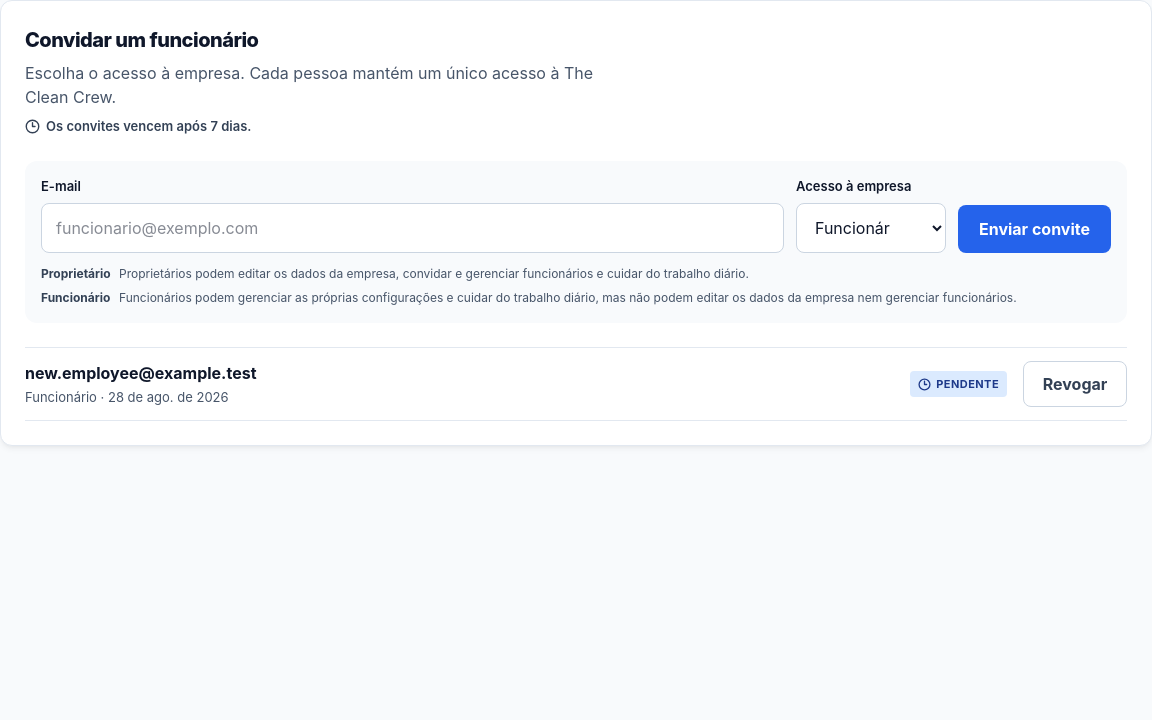
Test: CLE-95 invitation delivery failures stay visible › tells a Brazilian owner the invitation is still open, in Portuguese
Type "new.employee@example.test" into the field labelled "E-mail".
click(412, 228); type("new.employee@example.test")  # box [41,203,784,253]
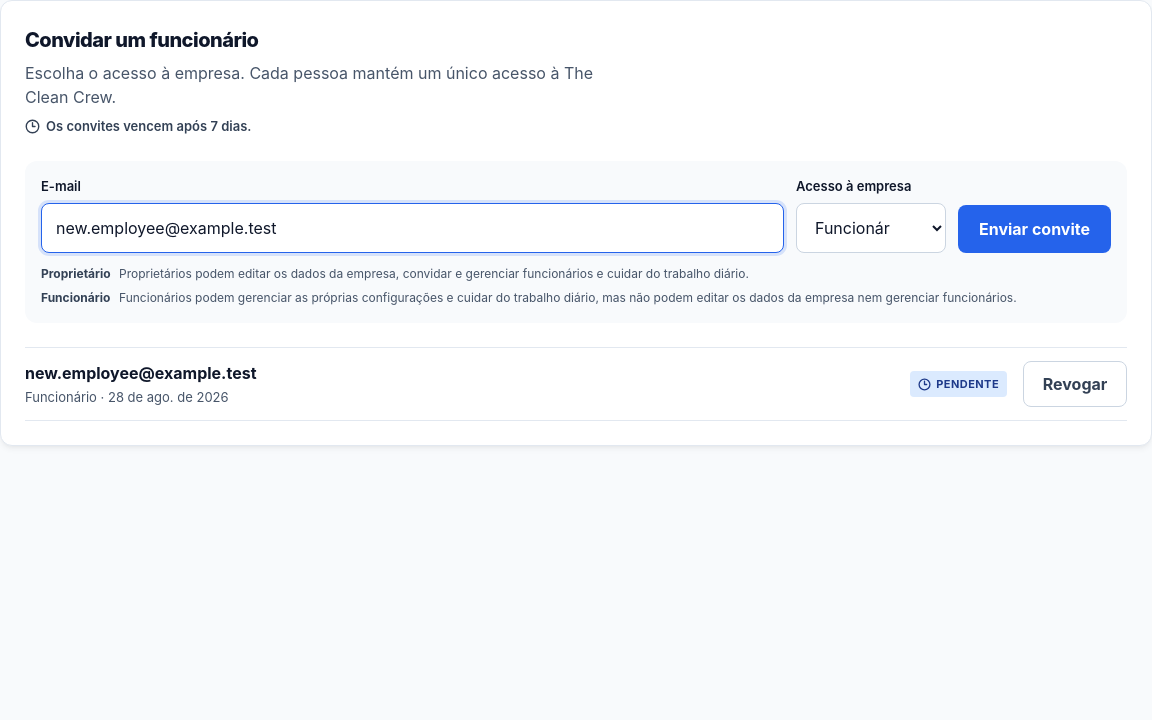
Click the button "Enviar convite".
click(1034, 229)  # box [958,205,1111,253]
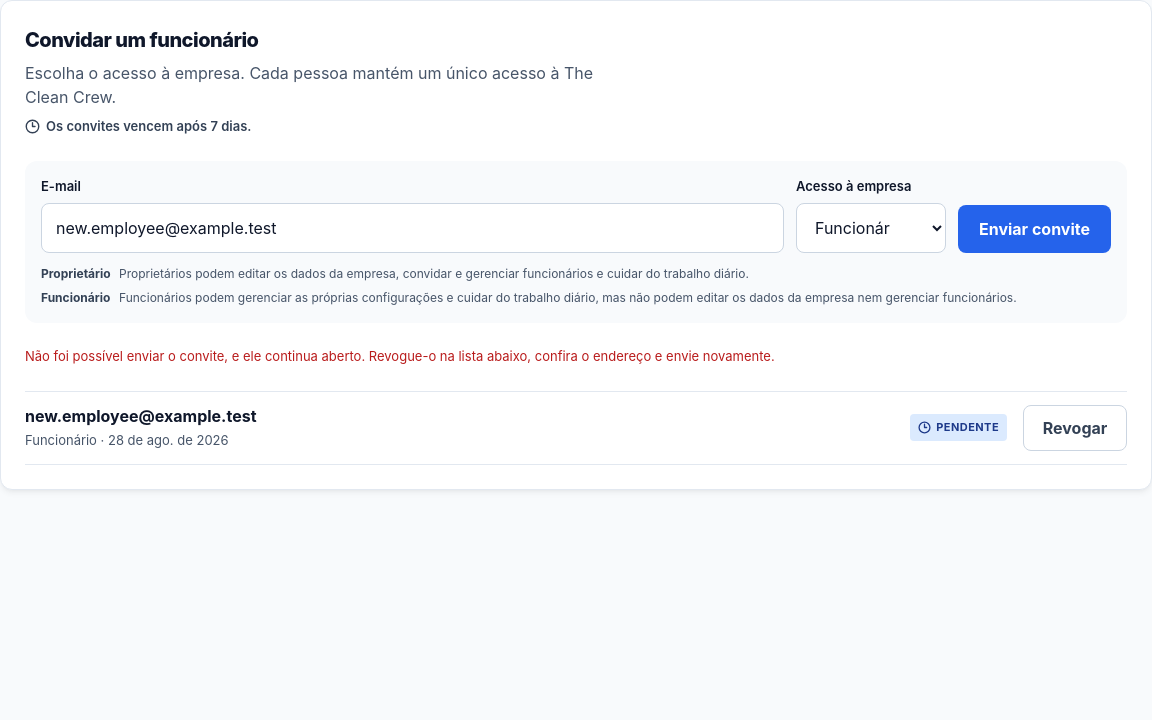
Expected: the button with aria-label "Revogar convite de new.employee@example.test" is shown, [1023,404,1127,450]
Expected: the message shows "Não foi possível enviar o convite, e ele continua aberto. Revogue-o na lista abaixo, confira o endereço e envie novamente.", [25,348,775,364]
